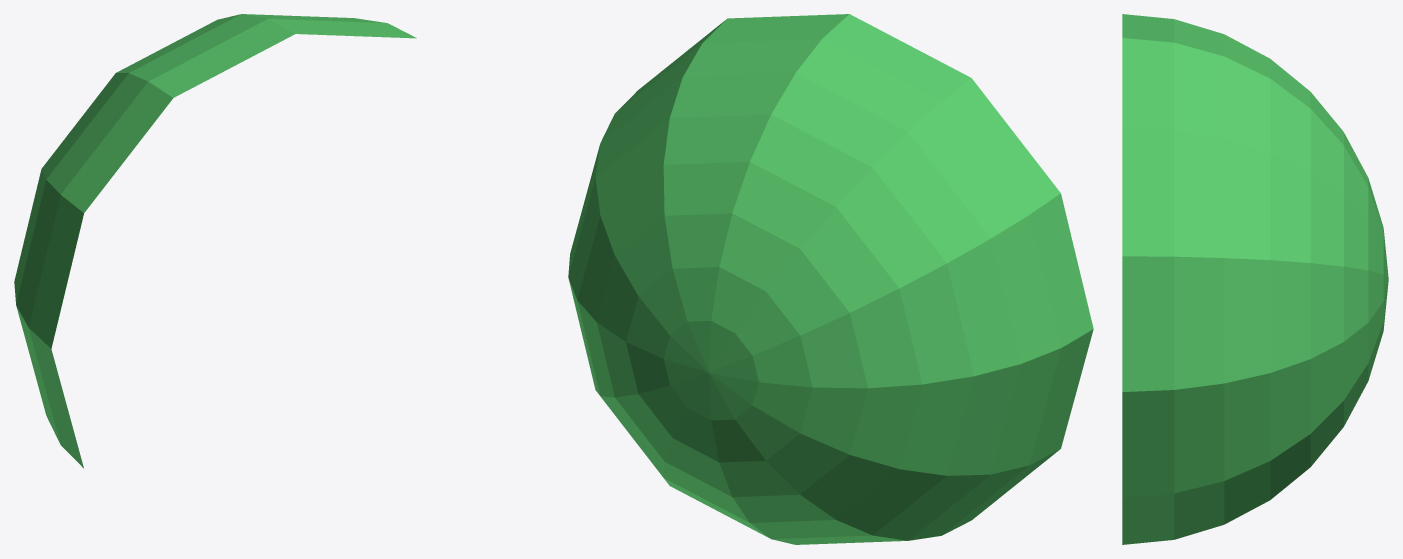
File: green-shell.glb
3 views of the same model, side by side, from view 1: azimuth 30°, elevation 25°; view 2: azimuth 150°, elevation 25°; view 3: azimuth 270°, elevation 25° (orthographic). The views are drawn at different scales.
Visible parts, largest first — view 1: item; view 2: item; view 3: item.
Boxes of the visible parts, x1=… form: item: x1=14, y1=14, x2=416, y2=468; item: x1=568, y1=14, x2=1093, y2=544; item: x1=1122, y1=14, x2=1388, y2=544.
Bounding box in the file's own units: 2 × 2 × 1.
